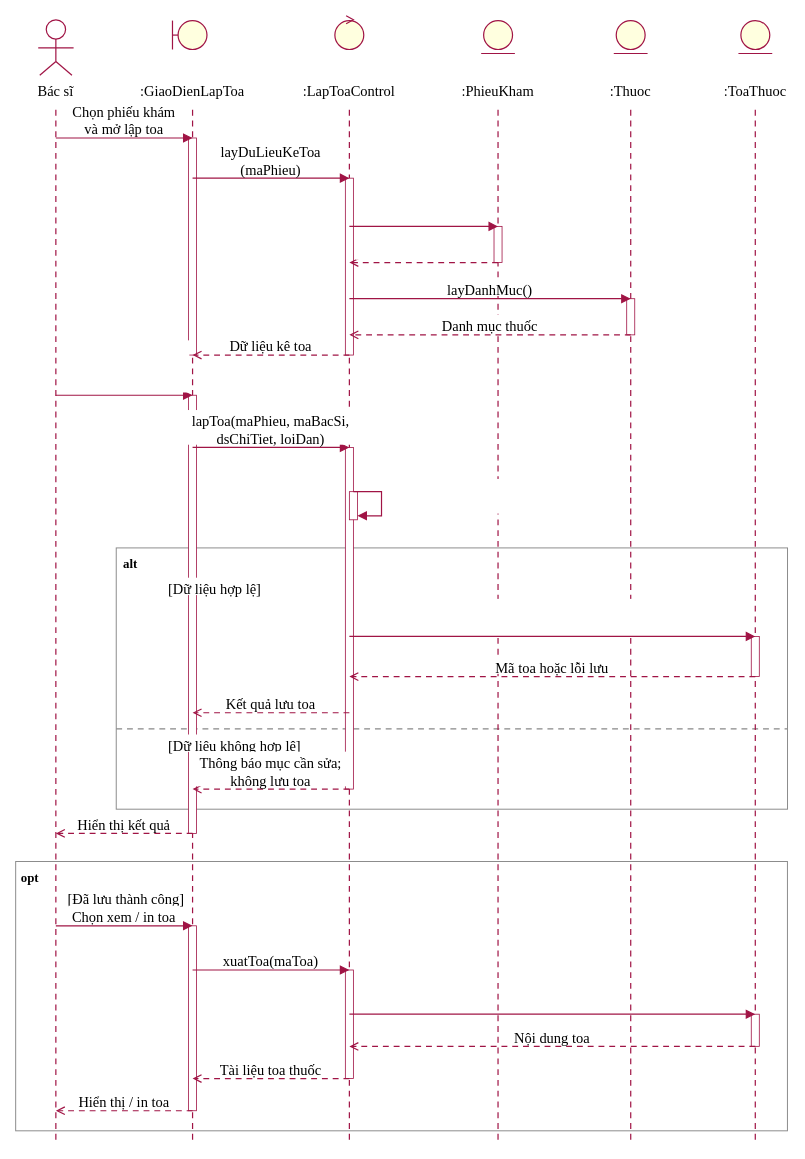
The diagram is 805 pixels wide and 1159 high, and some of its shapes have lost their labels. The shapes that lost their labels are listed below. From the top down, each one's box as (x1, y1, x2, y2) in pixels, then its label:
(382, 188, 464, 223): layThongTin (maPhieu)
(355, 242, 491, 259): Thông tin phiếu khám
(59, 340, 189, 392): Chọn thuốc, nhập số lượng, liều, cách dùng và lời dặn; Lưu
(383, 478, 517, 513): Kiểm tra phiếu khám, thuốc và chi tiết toa
(469, 598, 635, 633): taoToa(maPhieu, maBacSi, dsChiTiet, loiDan)
(520, 994, 584, 1011): xuatToa()
